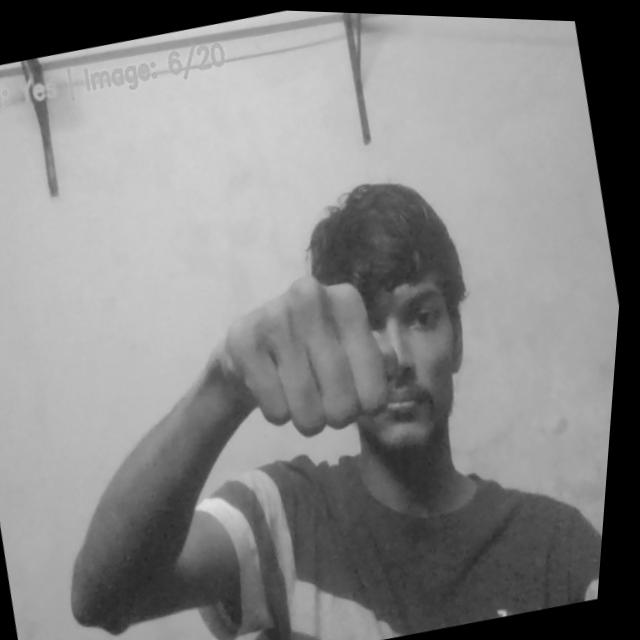Yes: (201, 245, 434, 456)
